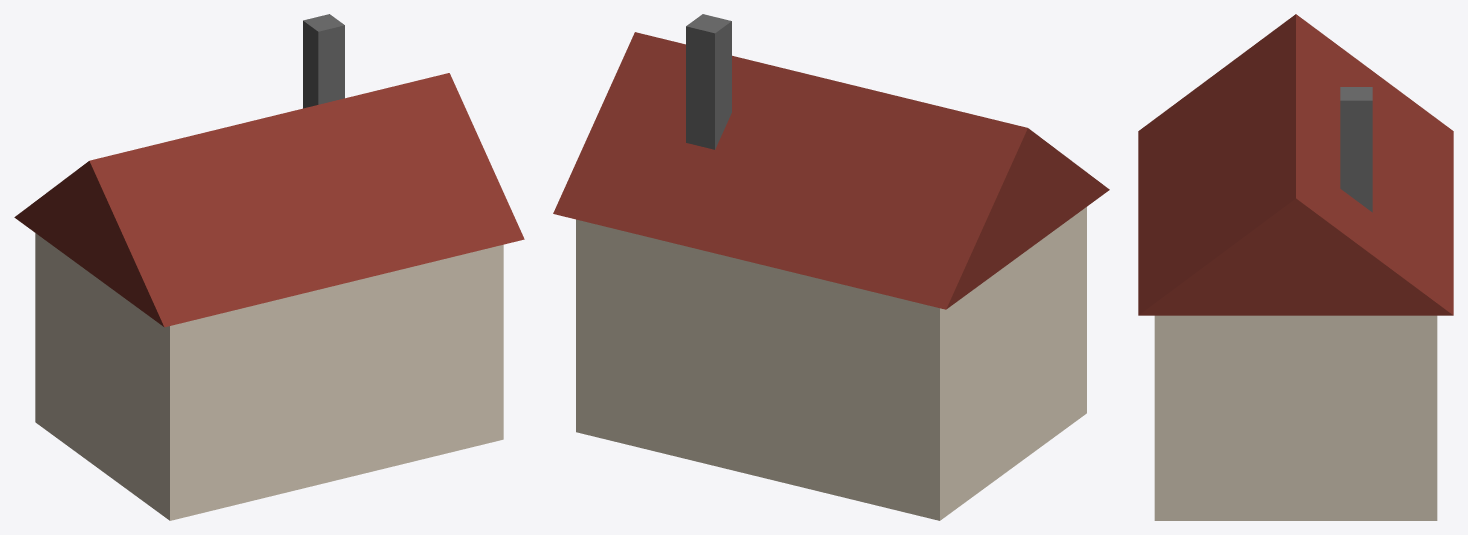
Rendered from house_gabled.glb.
3 renders of one model, left to right at view 1: azimuth 30°, elevation 25°; view 2: azimuth 150°, elevation 25°; view 3: azimuth 270°, elevation 25°, orthographic. The views are drawn at different scales.
Visible parts, largest first — view 1: walls, roof, chimney; view 2: walls, roof, chimney; view 3: roof, walls, chimney.
Boxes of the visible parts, x1=… form: walls: x1=35, y1=233, x2=503, y2=520; roof: x1=14, y1=73, x2=524, y2=327; chimney: x1=303, y1=14, x2=344, y2=108; walls: x1=576, y1=207, x2=1086, y2=520; roof: x1=553, y1=32, x2=1109, y2=309; chimney: x1=686, y1=14, x2=731, y2=149; roof: x1=1138, y1=14, x2=1453, y2=315; walls: x1=1154, y1=315, x2=1437, y2=520; chimney: x1=1340, y1=87, x2=1372, y2=212.
Bounding box in the file's own units: 10.8 × 10.5 × 7.8.
